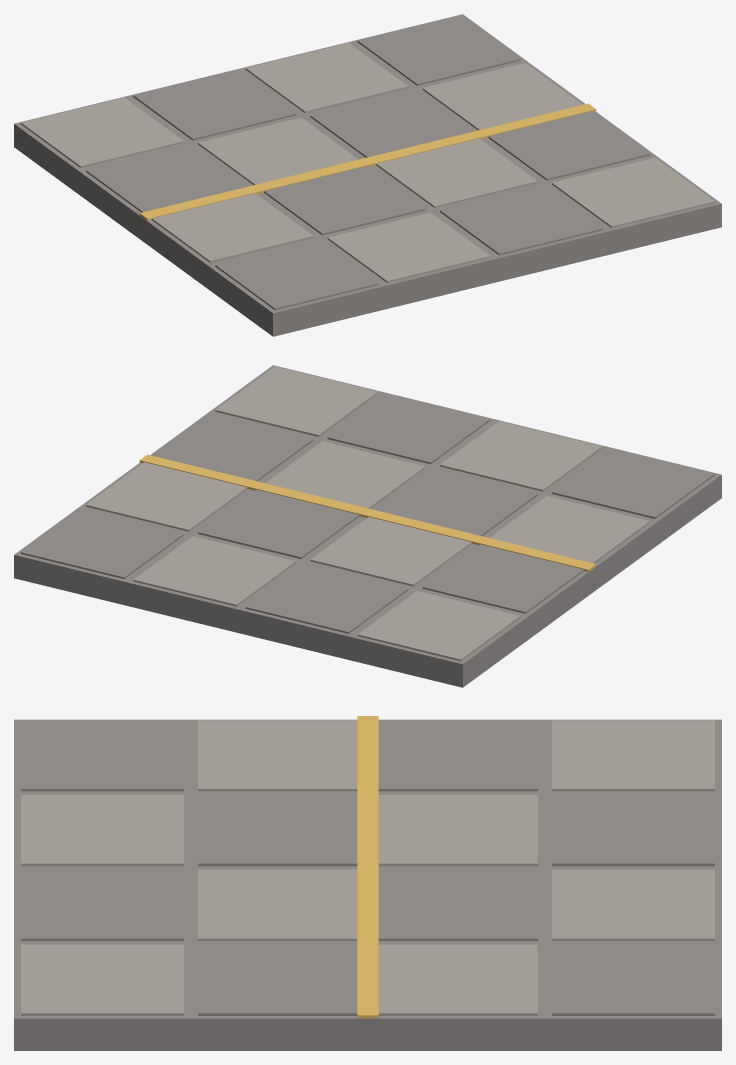
File: ground_tile_v1.glb
3 views of the same model, one above another, from view 1: azimuth 30°, elevation 25°; view 2: azimuth 150°, elevation 25°; view 3: azimuth 270°, elevation 25° (orthographic). The views are drawn at different scales.
Visible parts, largest first — view 1: ground_tile; view 2: ground_tile; view 3: ground_tile.
Boxes of the visible parts, x1,y1,x2,y2 form: ground_tile: [14, 14, 721, 336]; ground_tile: [14, 365, 721, 687]; ground_tile: [14, 716, 721, 1050].
Bounding box in the file's own units: 4 × 0.222 × 4.
